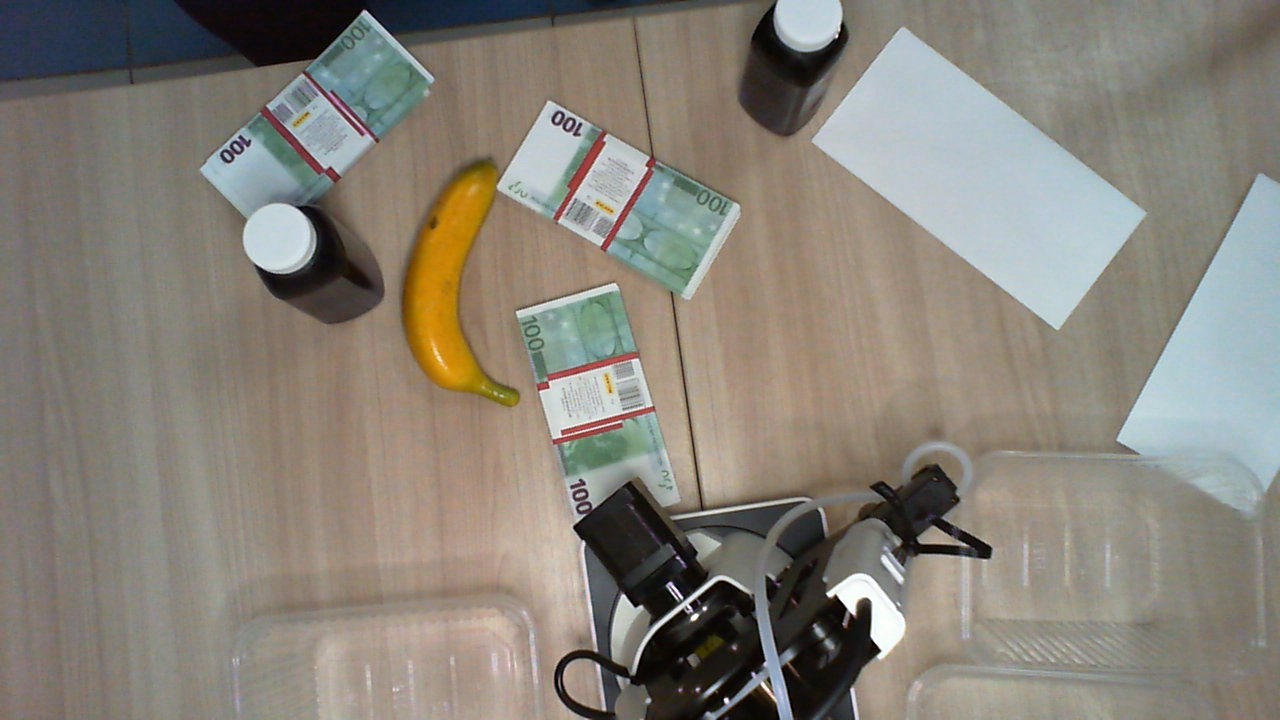banana: (403, 157, 519, 404)
bottle: (242, 203, 337, 298), (758, 1, 845, 83)
convert: (818, 27, 1147, 330), (1118, 170, 1279, 512)
money: (200, 6, 437, 227), (497, 100, 743, 296), (515, 282, 681, 528)
